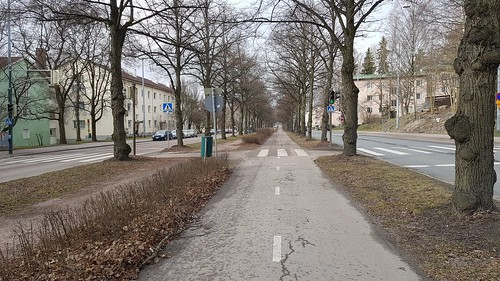building: (53, 56, 208, 144), (1, 68, 77, 150), (324, 68, 424, 127)
crosswalk: (355, 133, 500, 161), (1, 148, 108, 168), (242, 144, 314, 163)
street: (1, 135, 500, 278)
tree: (38, 1, 165, 166), (299, 1, 389, 159), (135, 1, 207, 164), (193, 1, 245, 153)
